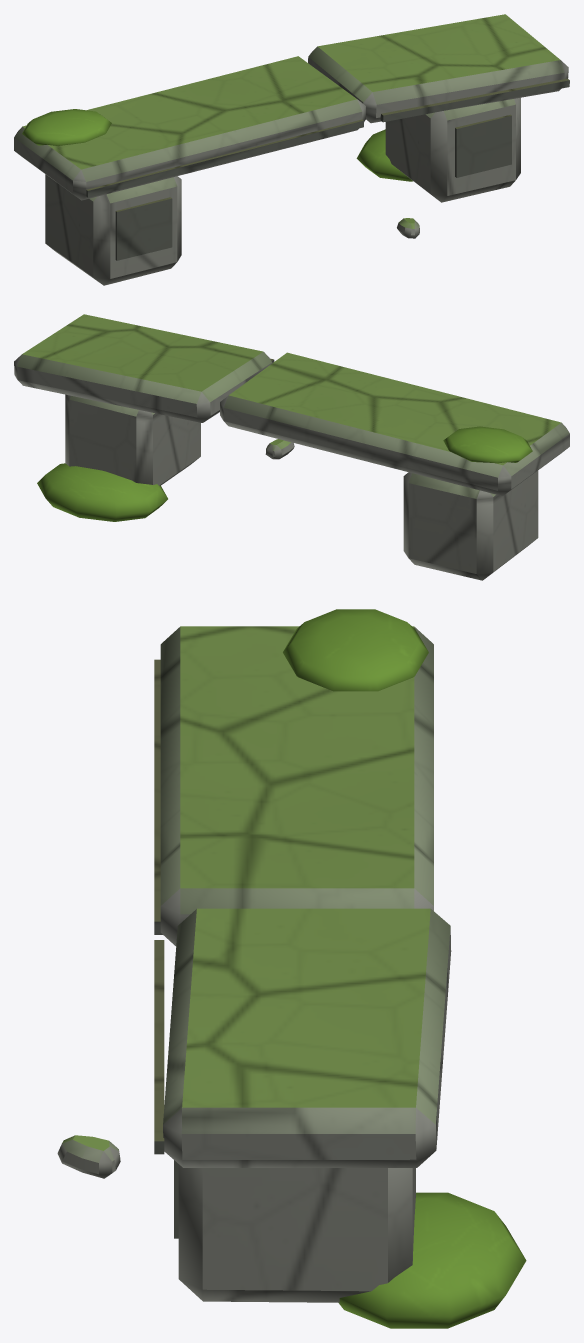
The model's file is stone_bench.glb.
3 views of the same model, one above another, from view 1: azimuth 30°, elevation 25°; view 2: azimuth 150°, elevation 25°; view 3: azimuth 270°, elevation 25° (orthographic). The views are drawn at different scales.
Visible parts, largest first — view 1: stone_bench; view 2: stone_bench; view 3: stone_bench.
Part boxes in pixels (bbox=[...]): stone_bench: bbox=[14, 14, 569, 285]; stone_bench: bbox=[14, 314, 569, 580]; stone_bench: bbox=[57, 609, 526, 1328].
Bounding box in the file's own units: 2.36 × 0.693 × 0.9619.
3 materials, 3 textured.
